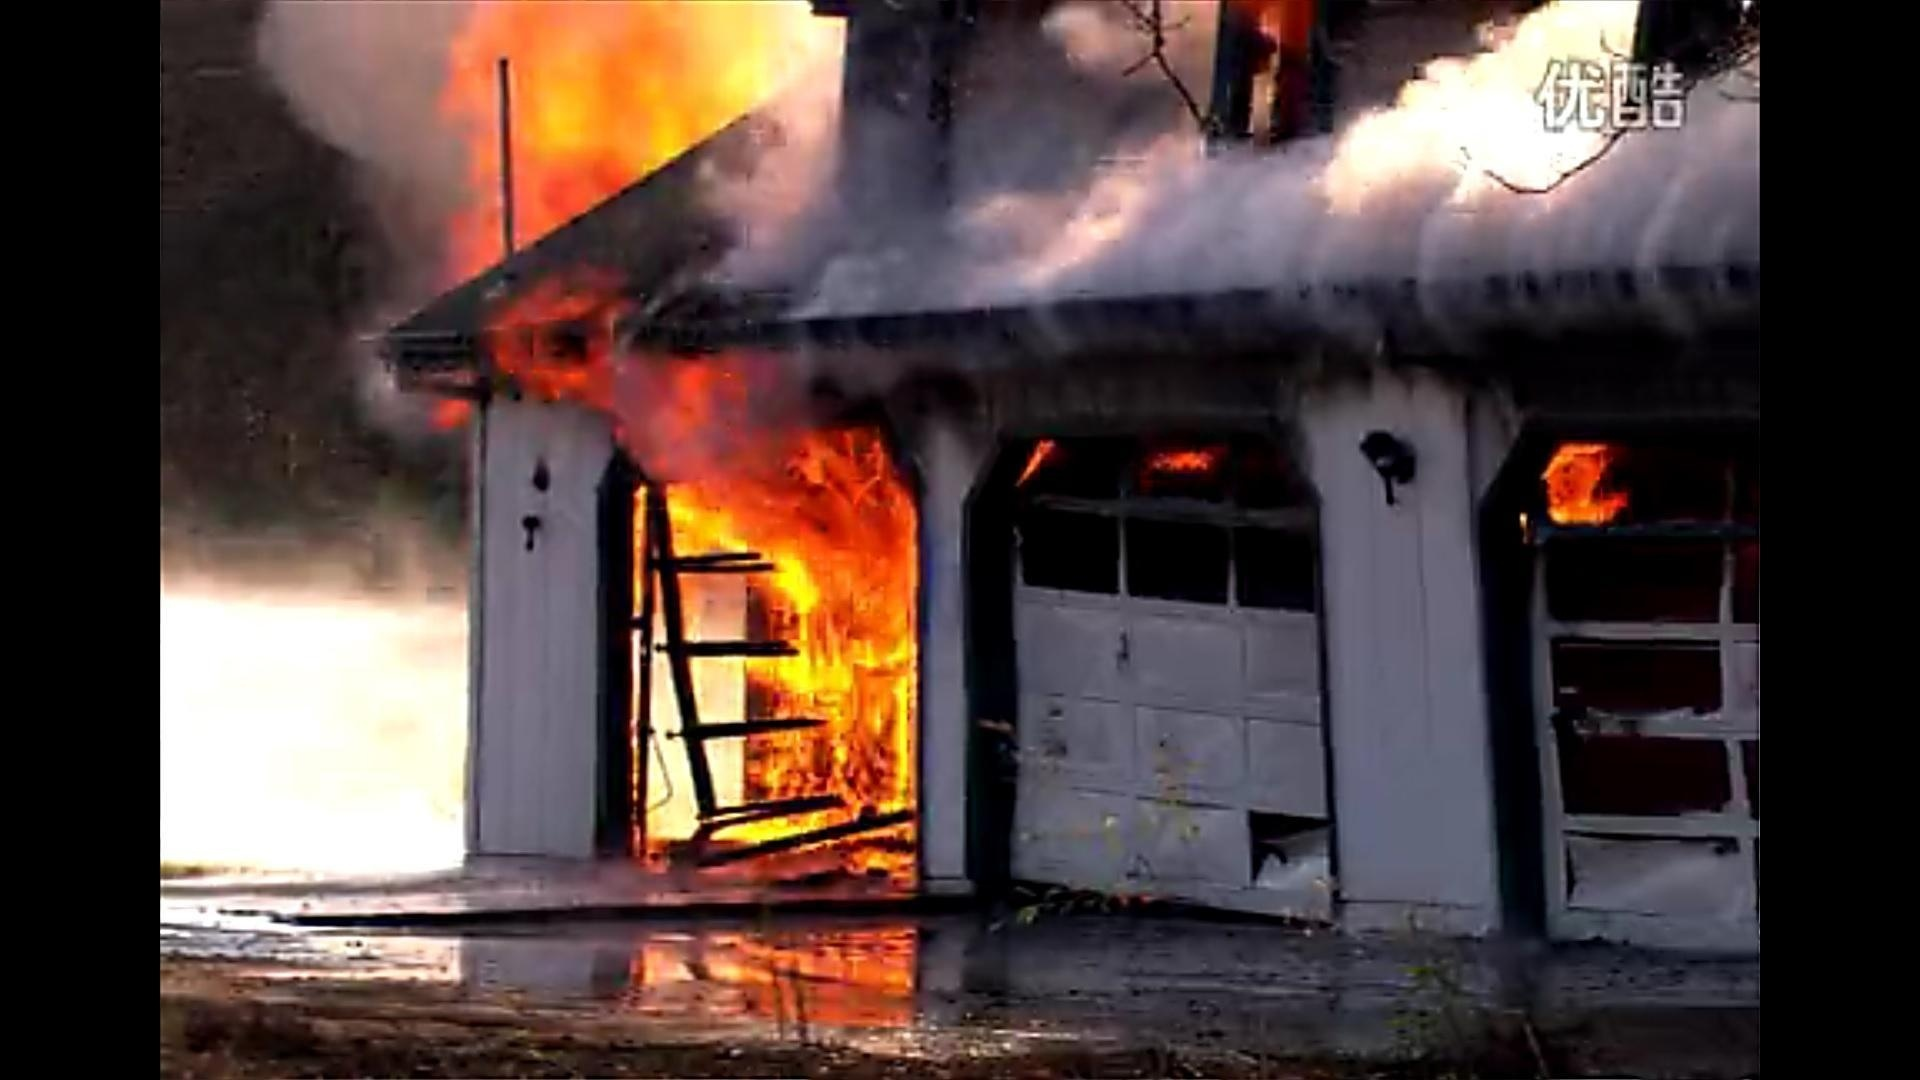fire: (545, 309, 923, 886), (440, 0, 837, 243), (1532, 434, 1630, 531), (1146, 442, 1218, 479)
